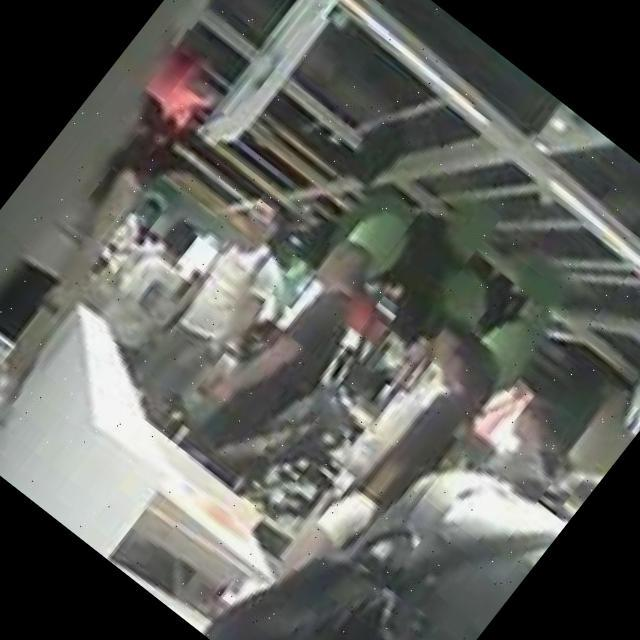person: (253, 366, 615, 640), (264, 333, 510, 620), (175, 228, 404, 486), (0, 86, 201, 353), (112, 192, 318, 432), (86, 202, 222, 354), (474, 388, 592, 508)
